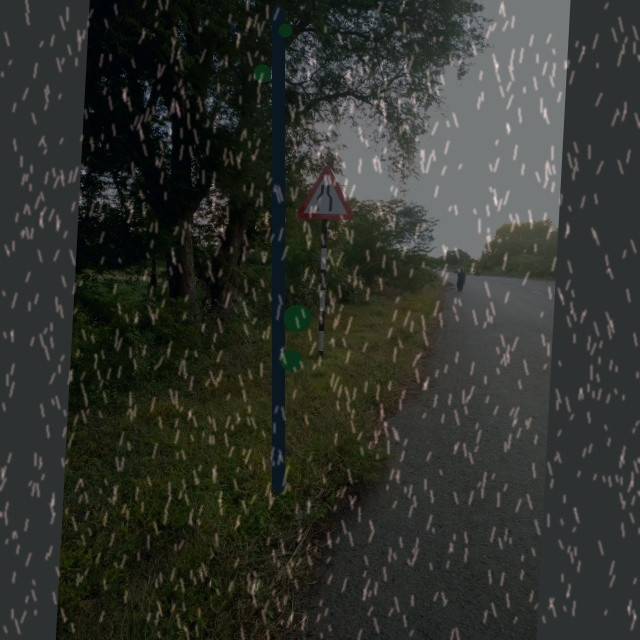Narrow_Road_Ahead: (294, 161, 354, 221)
